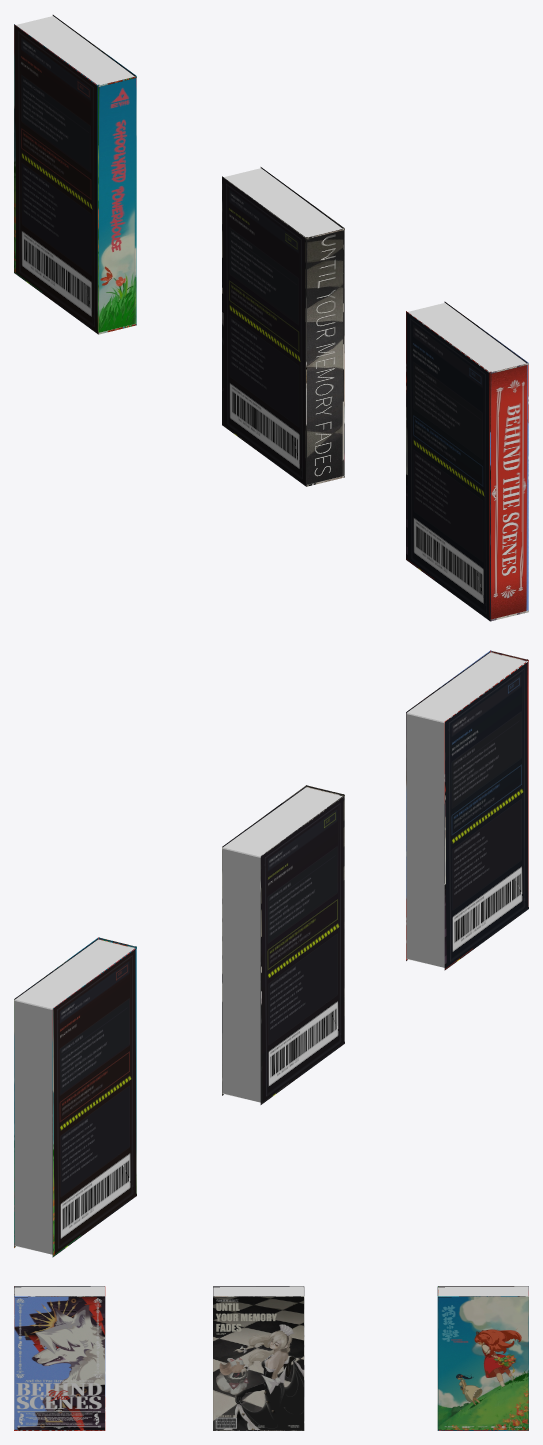
The model's file is vhs.fbx.
The picture shows the model from 3 angles, top to bottom: view 1: azimuth 30°, elevation 25°; view 2: azimuth 150°, elevation 25°; view 3: azimuth 270°, elevation 25°; orthographic projection. The views are drawn at different scales.
Visible parts, largest first — view 1: Cube.004, Cube.003, Cube.005; view 2: Cube.005, Cube.003, Cube.004; view 3: Cube.003, Cube.004, Cube.005.
Part boxes in pixels (box(x1,y1,x2,y2)): Cube.004: box(222, 167, 344, 486); Cube.003: box(406, 301, 528, 621); Cube.005: box(14, 15, 136, 334); Cube.005: box(14, 937, 136, 1257); Cube.003: box(406, 650, 528, 970); Cube.004: box(222, 785, 344, 1104); Cube.003: box(14, 1286, 105, 1430); Cube.004: box(213, 1286, 304, 1430); Cube.005: box(437, 1286, 528, 1430).
Bounding box in the file's own units: 2.51 × 15.45 × 53.45.
